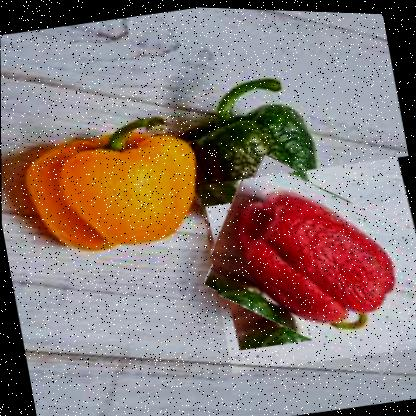capsicum_rotten: (195, 142, 415, 377)
